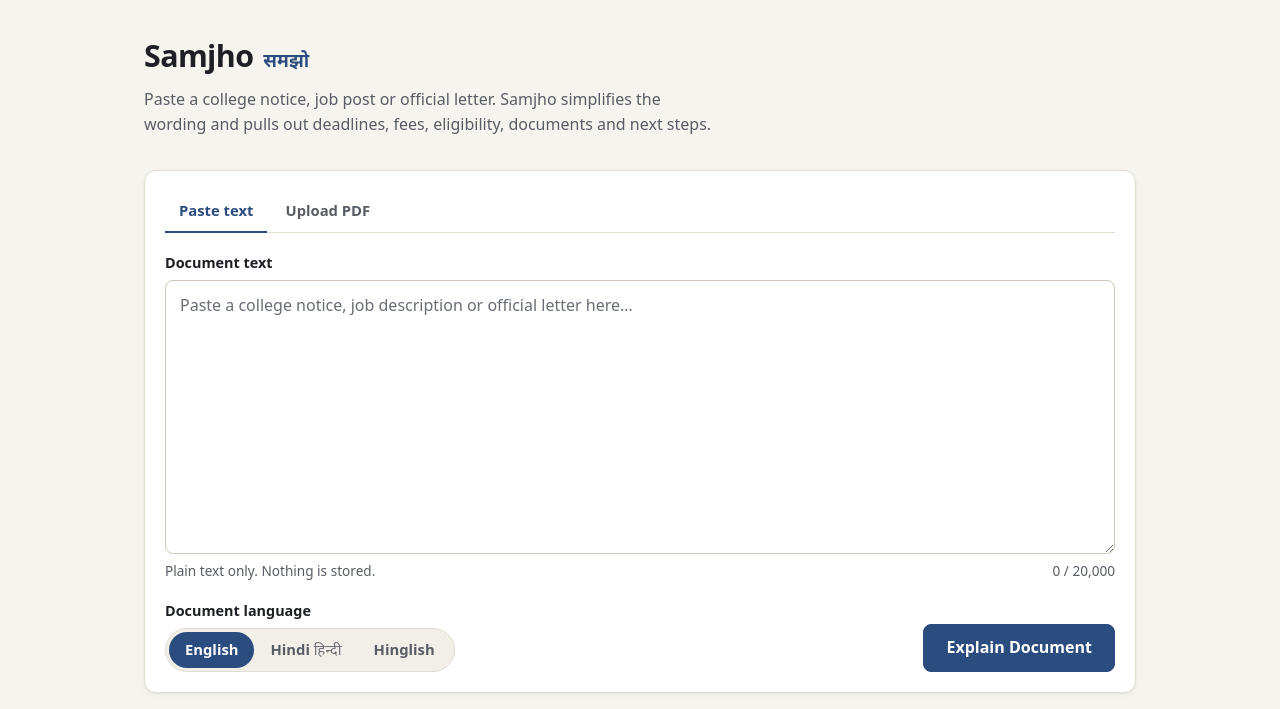
Test case: results › shows phrase changes and date warnings returned by the backend
Click the text box labelled "Document text": (640, 416) x1=165 y1=280 x2=1115 y2=554
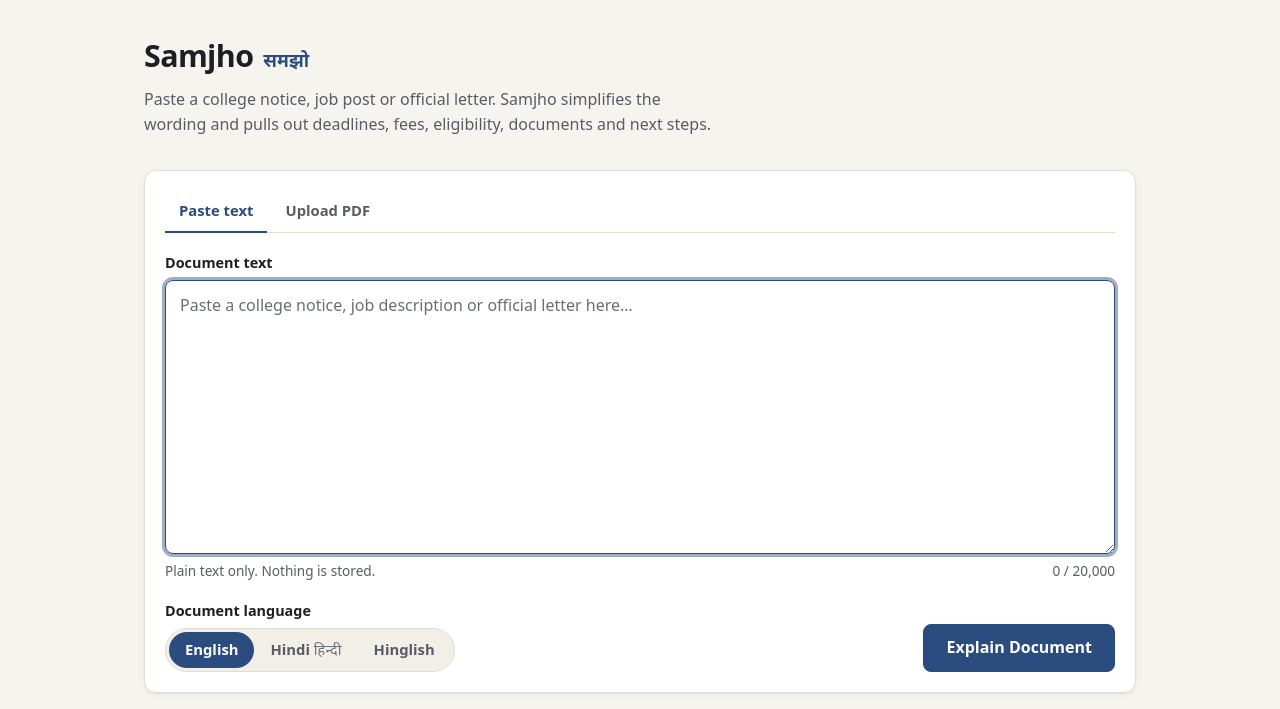
Type keys "Students with at least 60% marks must submit their resume by 15 November 2026. The application fee is ₹500. The library opens at 9 AM."
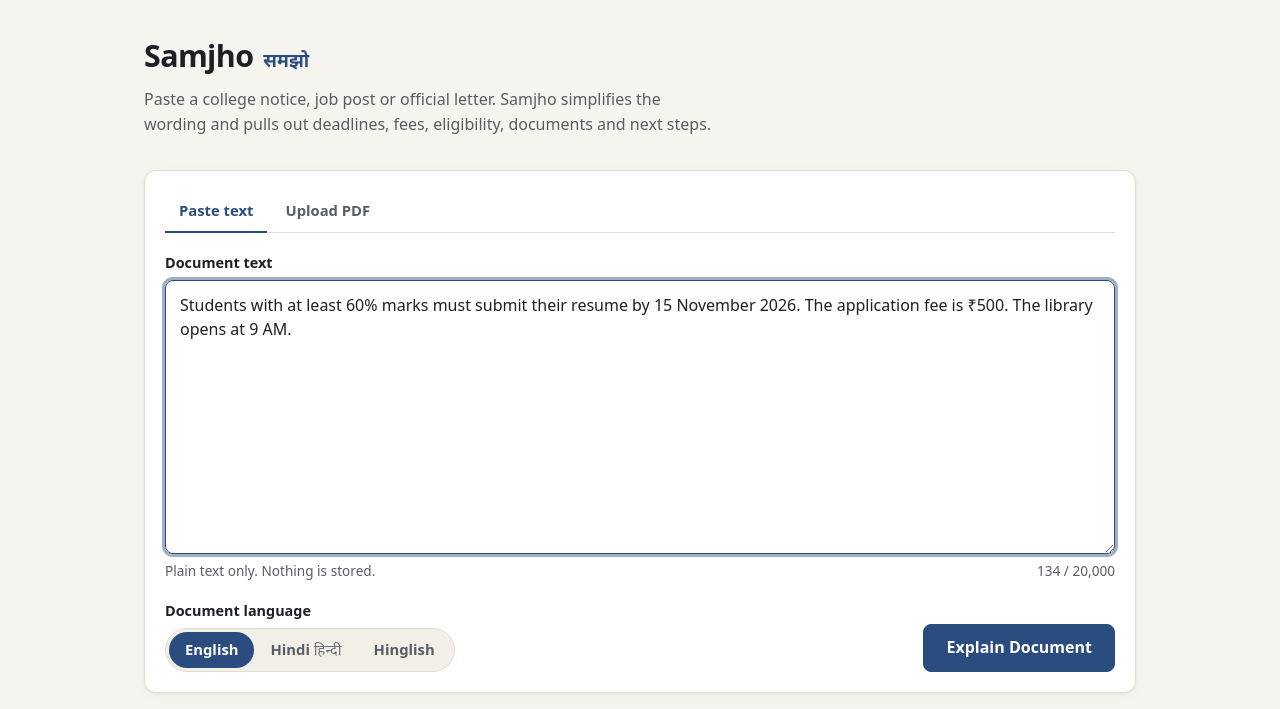
Click the button "Explain Document": (1019, 648) x1=924 y1=624 x2=1115 y2=672
(page scrolled)
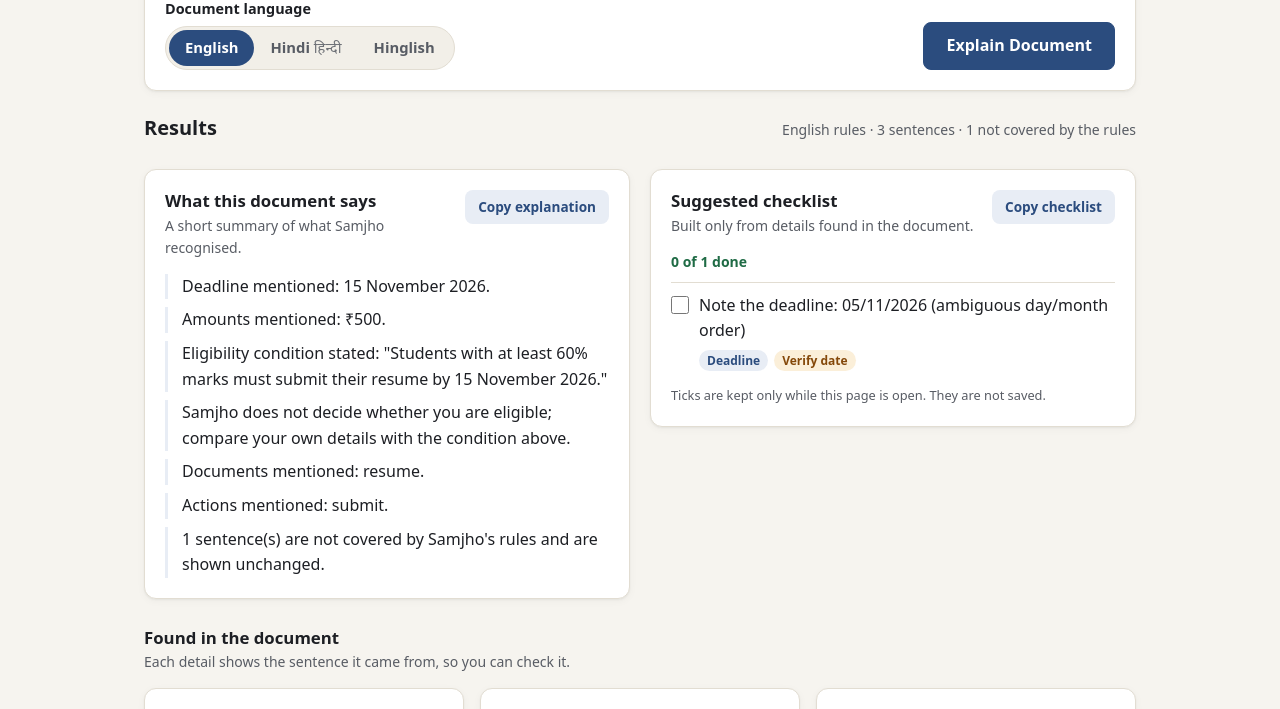
Expected: the text "Verify date" is shown, x1=774 y1=350 x2=856 y2=371
